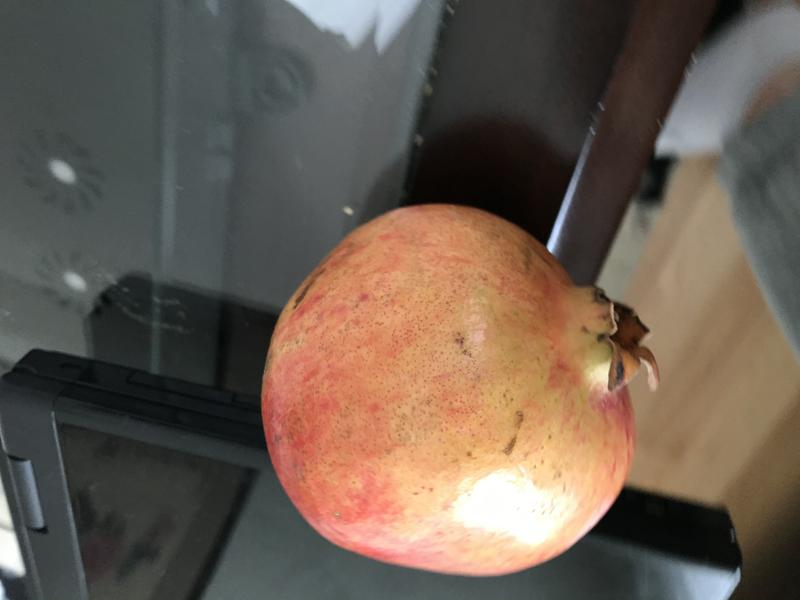pomegranate: (244, 190, 669, 588)
